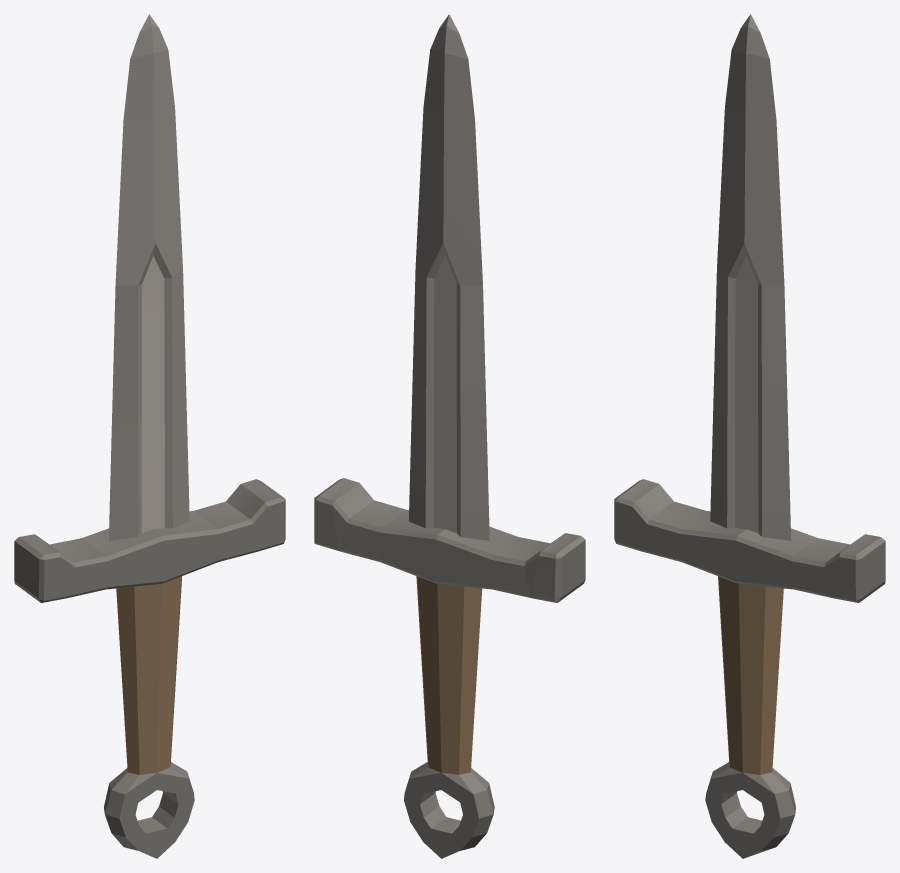
The model's file is SM_pwe_fantasy_dagger_01.fbx.
The picture shows the model from 3 angles, left to right: view 1: azimuth 30°, elevation 25°; view 2: azimuth 150°, elevation 25°; view 3: azimuth 330°, elevation 25°; orthographic projection.
Parts seen in each view (by area): view 1: SM_pwe_fantasy_dagger_01; view 2: SM_pwe_fantasy_dagger_01; view 3: SM_pwe_fantasy_dagger_01.
Part boxes in pixels (<box>): SM_pwe_fantasy_dagger_01: <box>14,14,285,858</box>; SM_pwe_fantasy_dagger_01: <box>314,14,585,858</box>; SM_pwe_fantasy_dagger_01: <box>614,14,885,858</box>.
Size of the model in its own units: 17.97 by 58.43 by 3.76.
